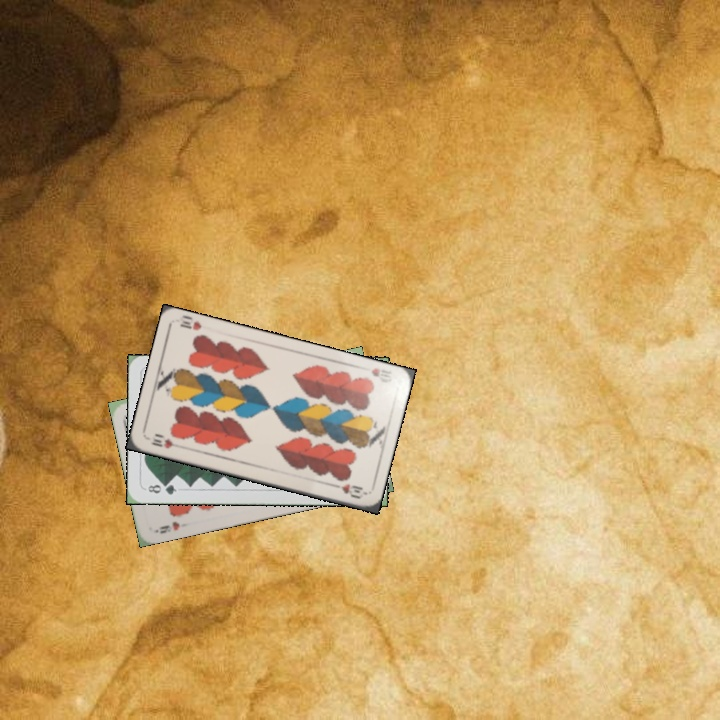G8: (144, 479, 179, 497)
H10: (147, 434, 184, 451), (367, 364, 394, 379)
H9: (151, 517, 182, 536)
